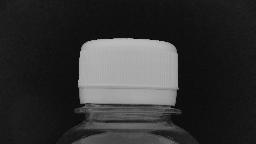Good Cap: (69, 33, 187, 119)
